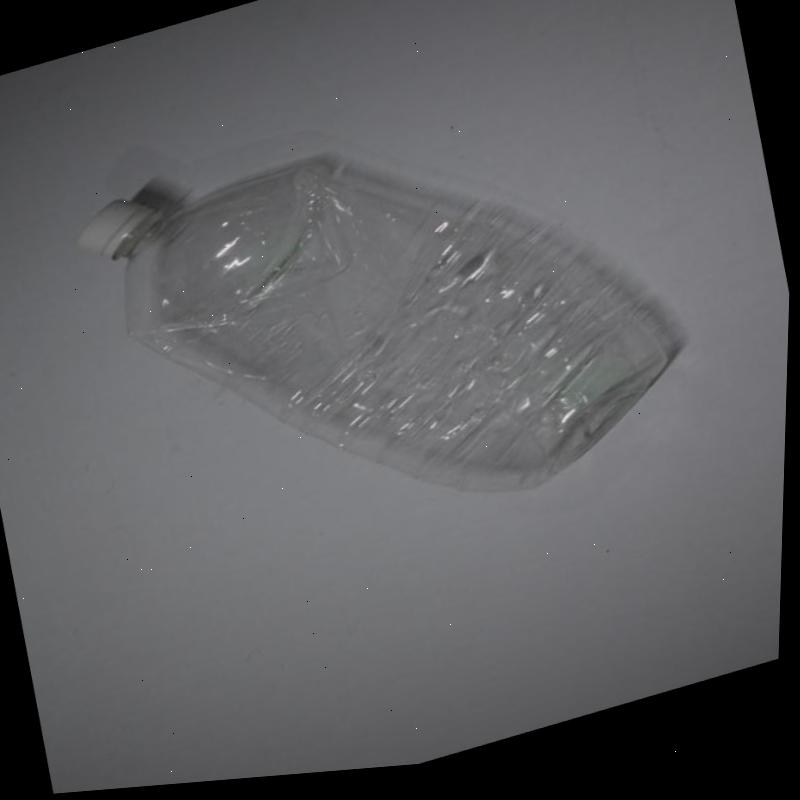botella: (65, 54, 703, 606)
